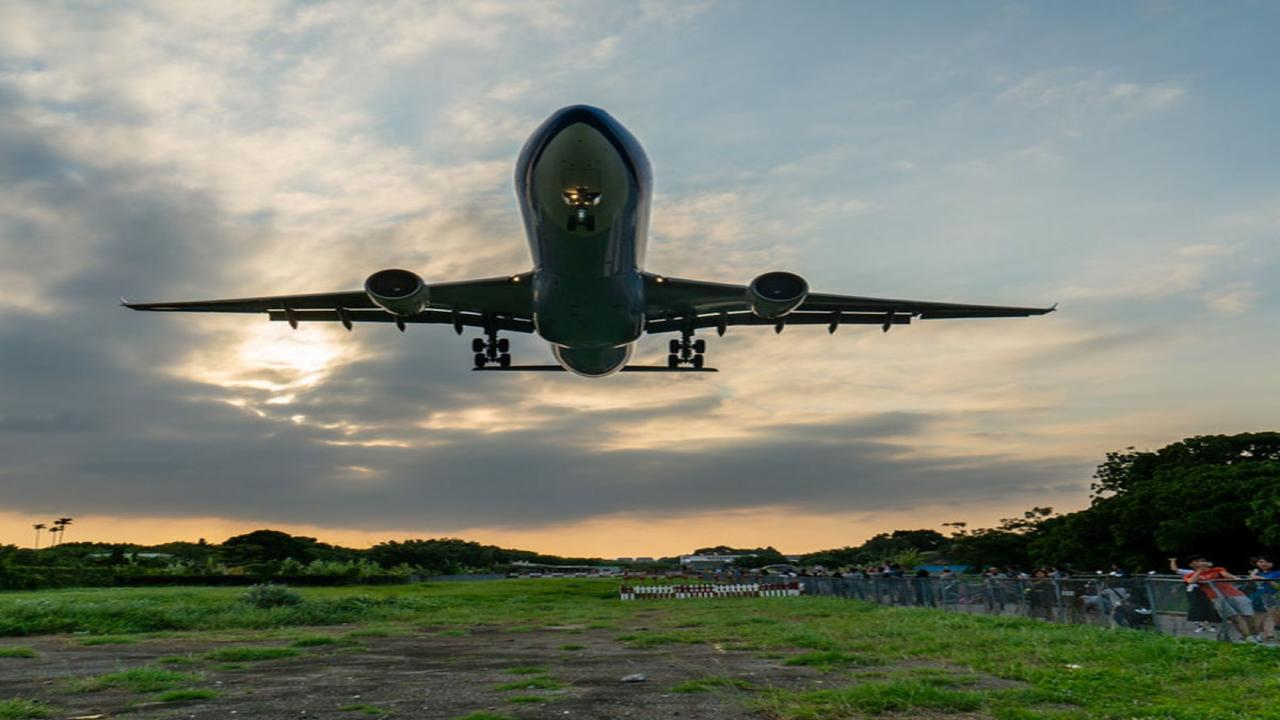Airplane: (98, 85, 1078, 387)
